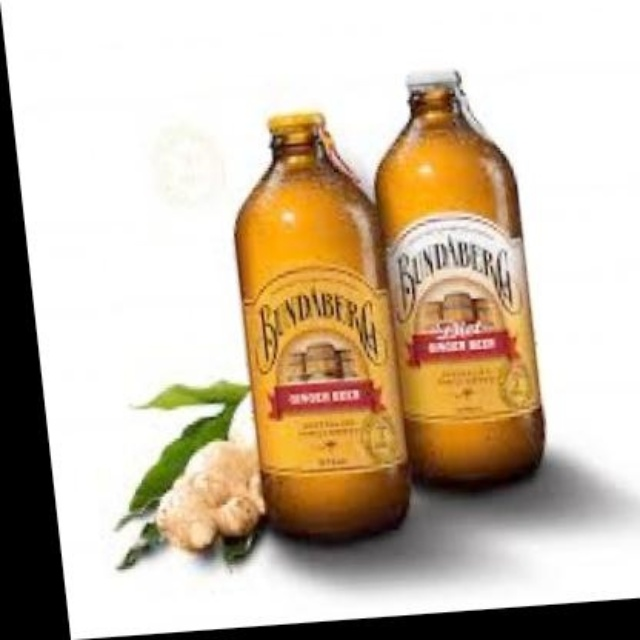trash: (235, 114, 408, 537), (375, 72, 543, 485)
